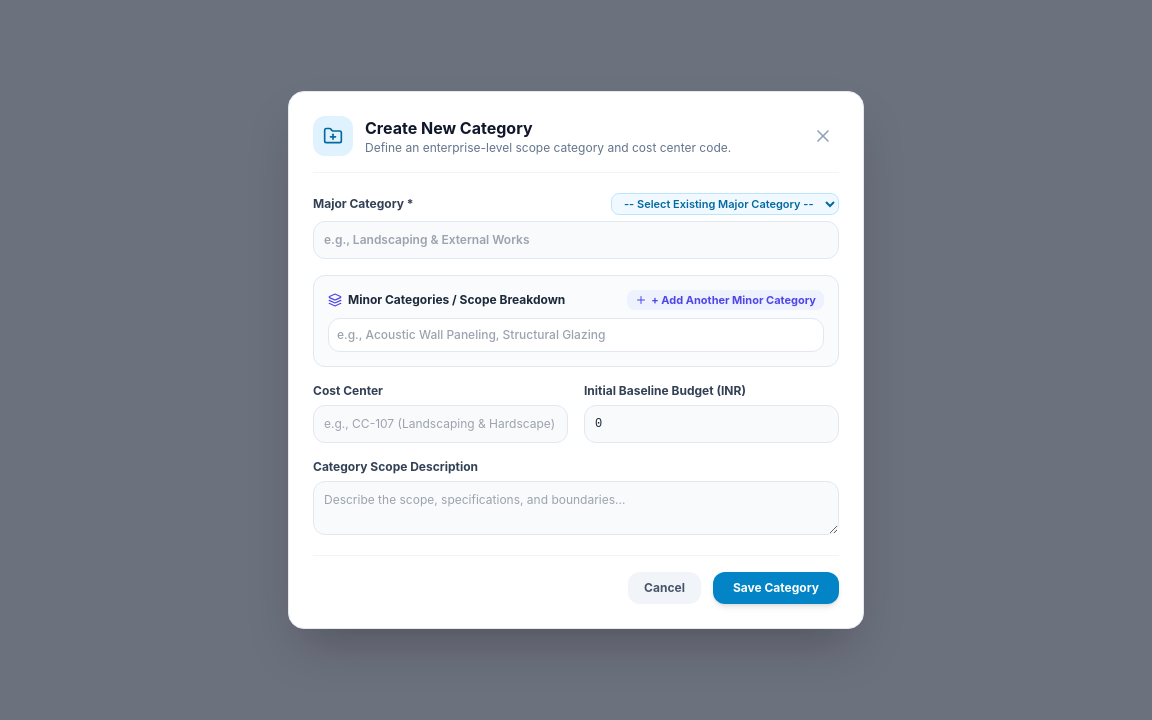
Scenario: AddCategoryModal Component › selects existing major category from dropdown
The image size is (1152, 720).
Select "Civil & Structural Works" in the dropdown named "Major Category": (725, 204) [611,193,839,215]
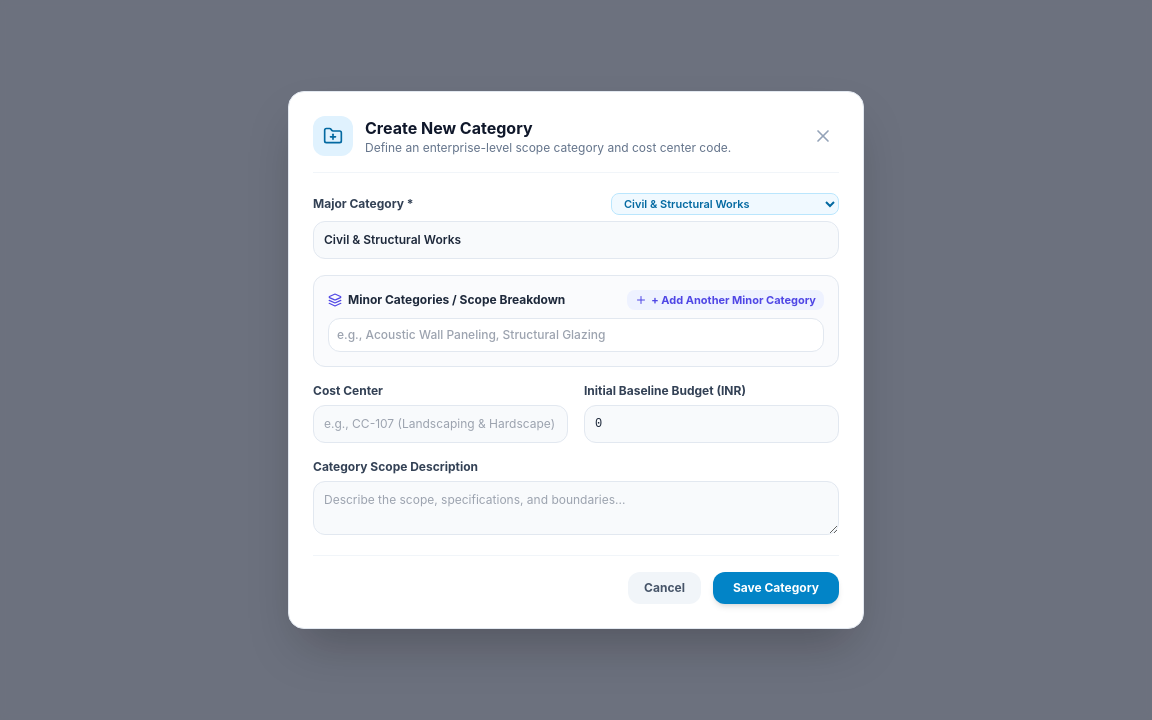
Result: the field with placeholder "e.g., Landscaping & External Works" holds "Civil & Structural Works" at [313,221,839,259]
